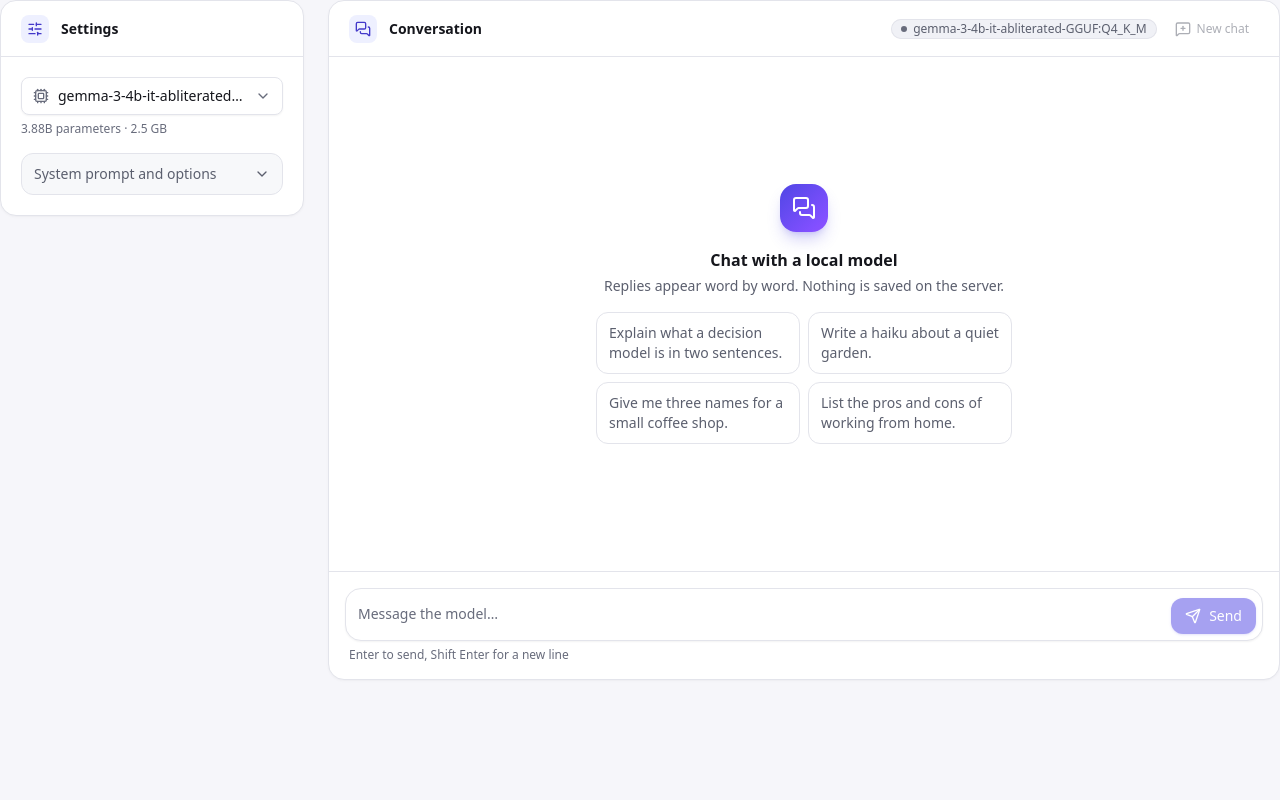
Scenario: ChatPage › Stop keeps what was written so far, and Regenerate replaces it
The image size is (1280, 800).
Expected: the dropdown named "Model" shows "gemma-3-4b-it-abliterated-GGUF:Q4_K_M", [21,77,283,115]
Type "Tell me a story" into the text box labelled "Message".
click(761, 615); type("Tell me a story")  # box [358,595,1163,634]
Then press Enter
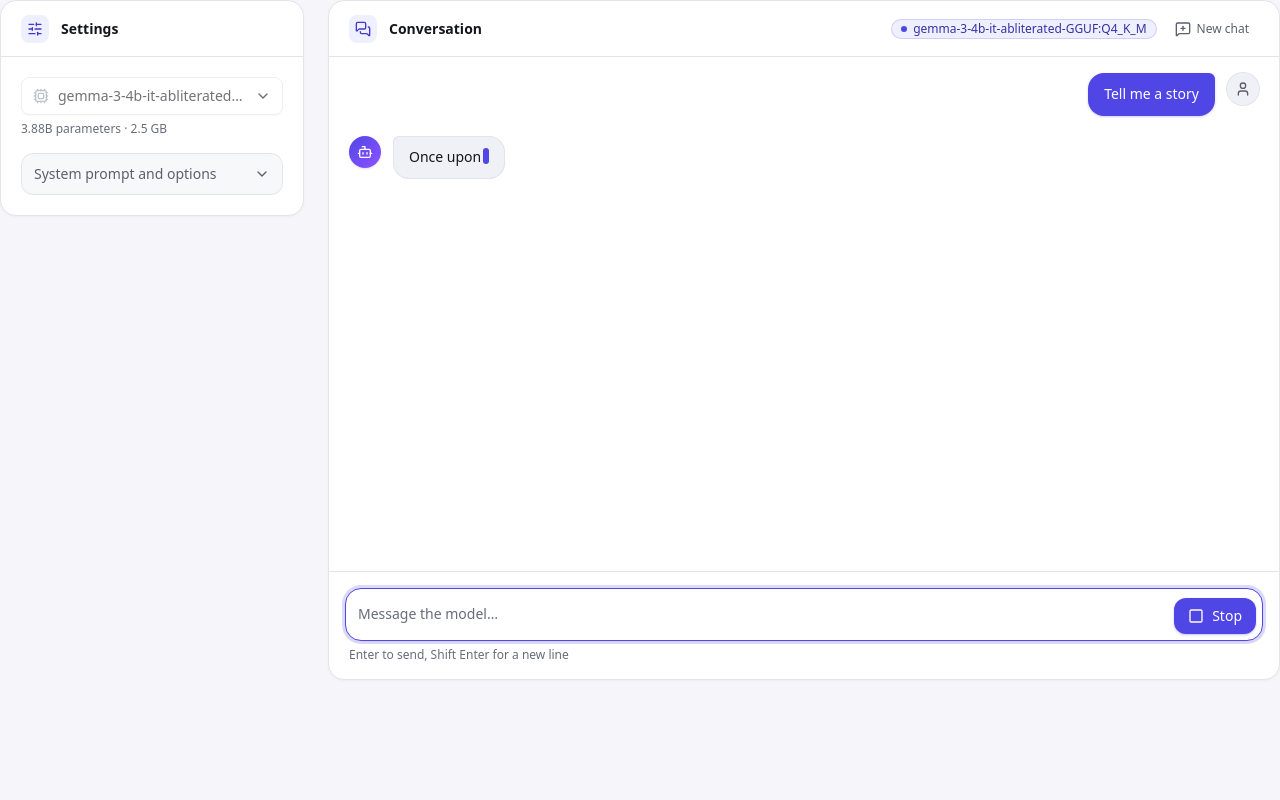
Expected: the text "Once upon" is shown, [393,136,505,179]
Click the button "Stop".
click(1215, 616)  # box [1174,598,1256,634]
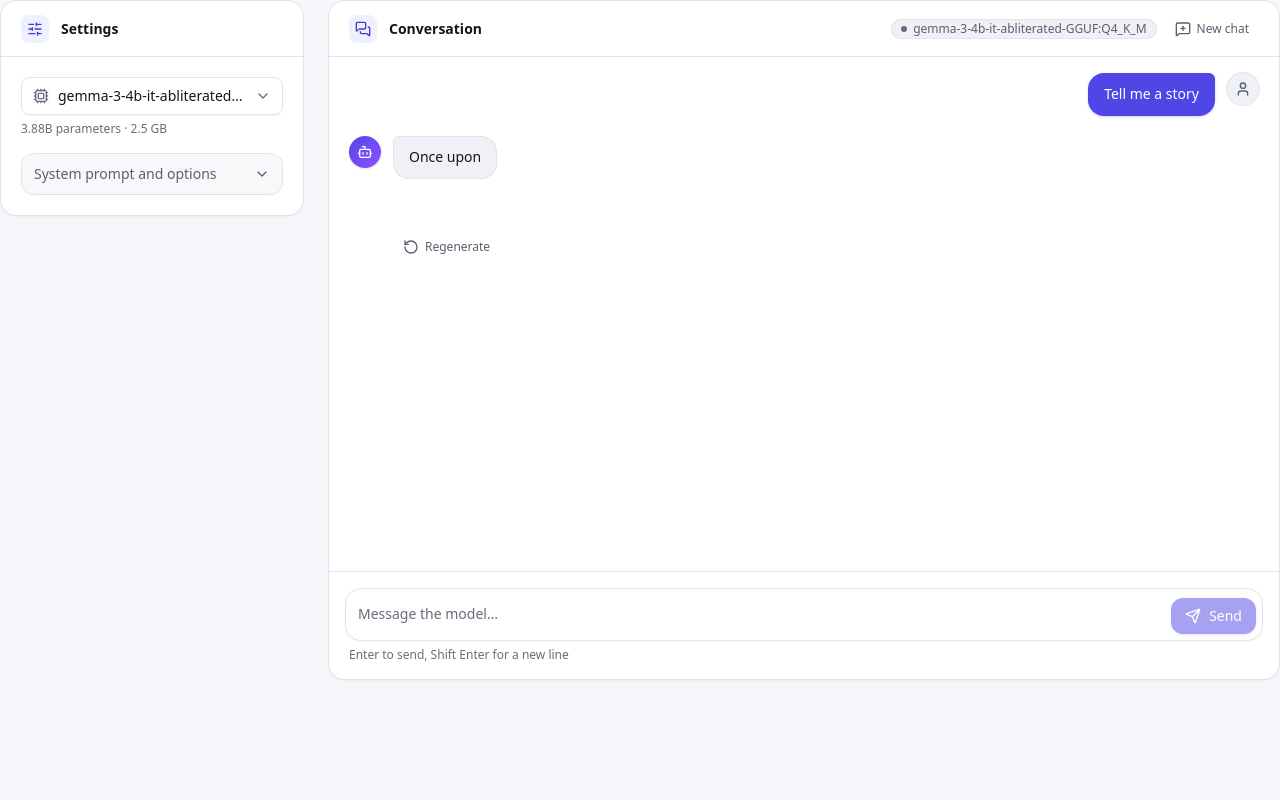
Expected: the text "Once upon" is shown, [393,136,497,179]
Expected: the button "Regenerate" is shown
Click the button "Regenerate".
click(447, 246)  # box [393,230,500,262]
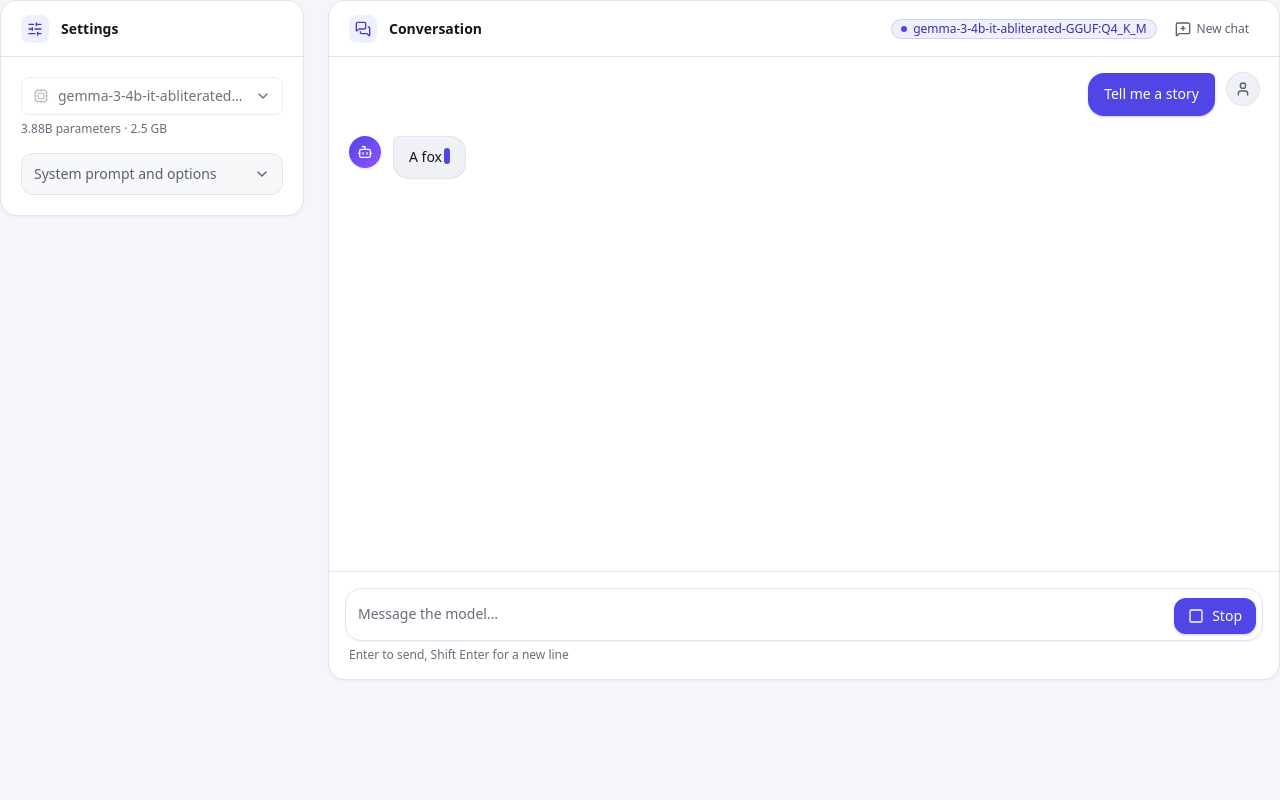
Expected: the text "A fox" is shown, [393,136,466,179]
Expected: the text "Once upon" is gone
